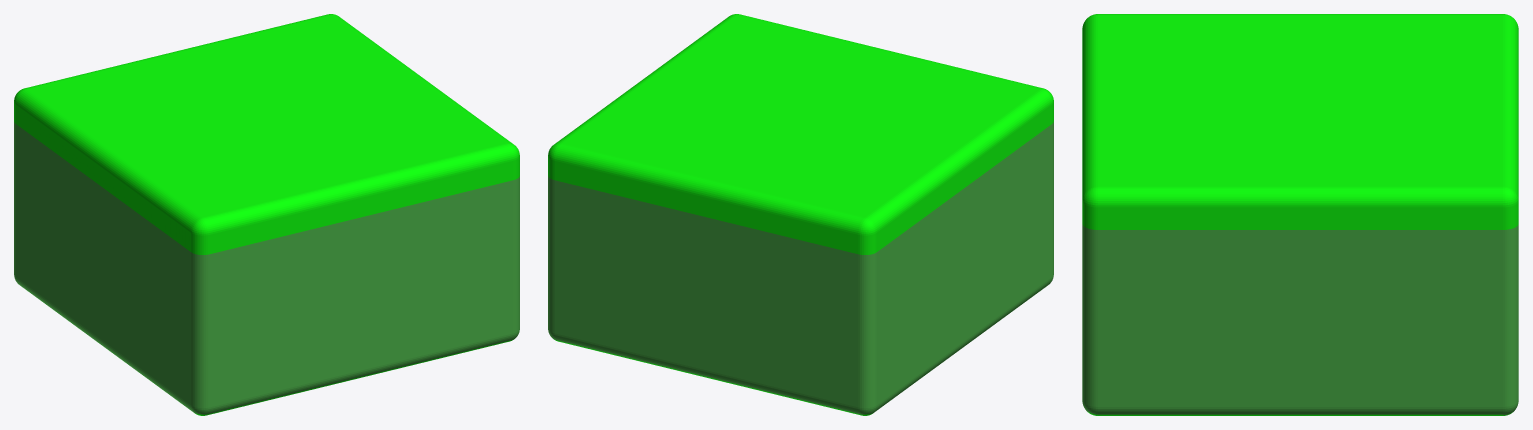
The model's file is tower hill.fbx.
3 renders of one model, left to right at view 1: azimuth 30°, elevation 25°; view 2: azimuth 150°, elevation 25°; view 3: azimuth 270°, elevation 25°, orthographic. The views are drawn at different scales.
Visible parts, largest first — view 1: Cube.059; view 2: Cube.059; view 3: Cube.059.
Boxes of the visible parts, x1,y1,x2,y2 form: Cube.059: [14, 14, 519, 415]; Cube.059: [548, 14, 1053, 415]; Cube.059: [1082, 14, 1518, 415].
Size of the model in its own units: 1388 by 800 by 1388.
